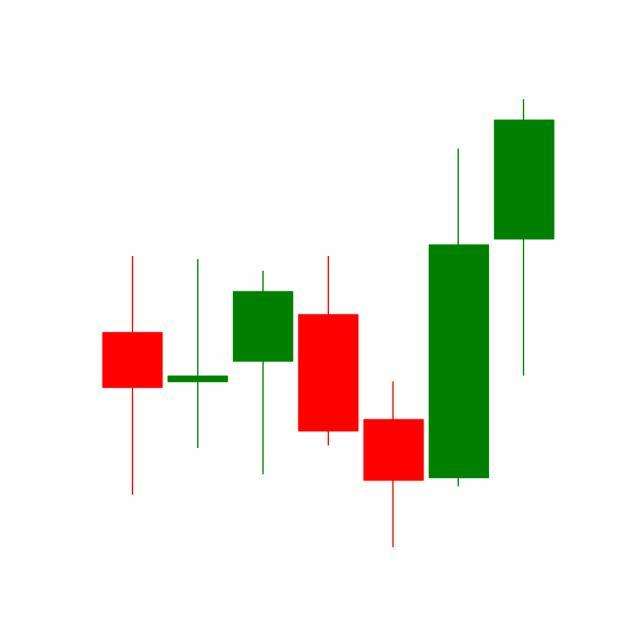Hikkake Pattern: (165, 144, 492, 549)
